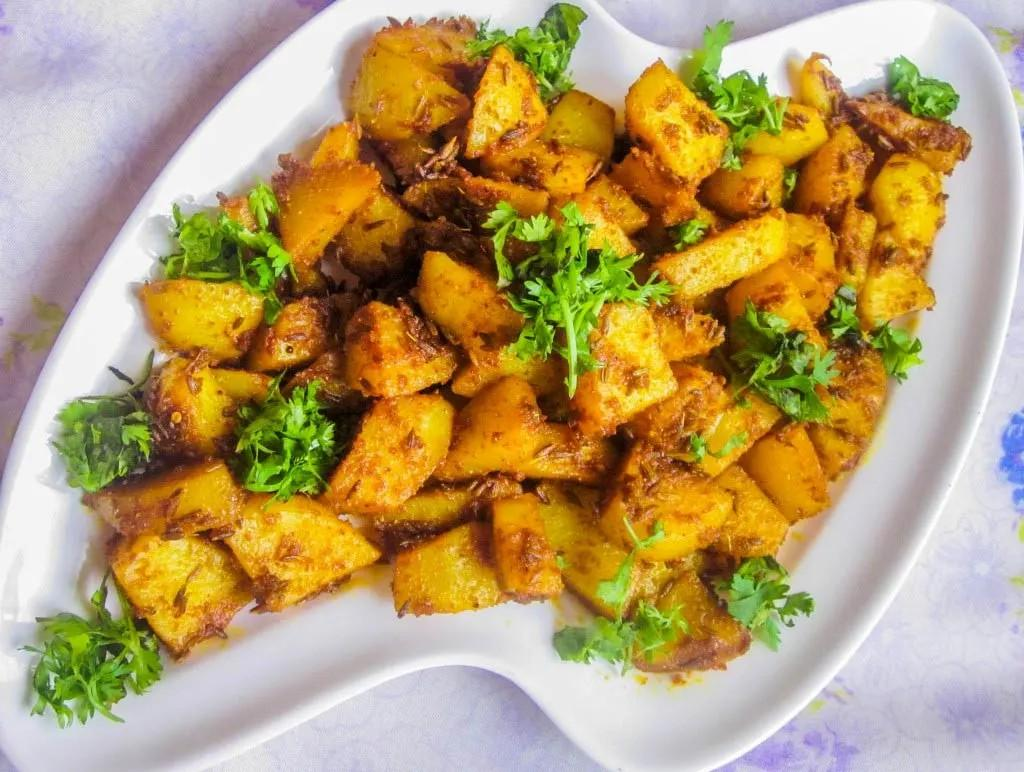AlooMasala: (82, 18, 973, 674)
